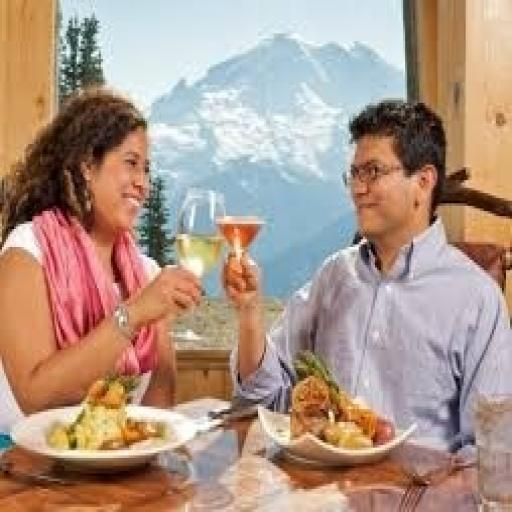eating: (0, 80, 510, 455), (0, 85, 204, 435)
